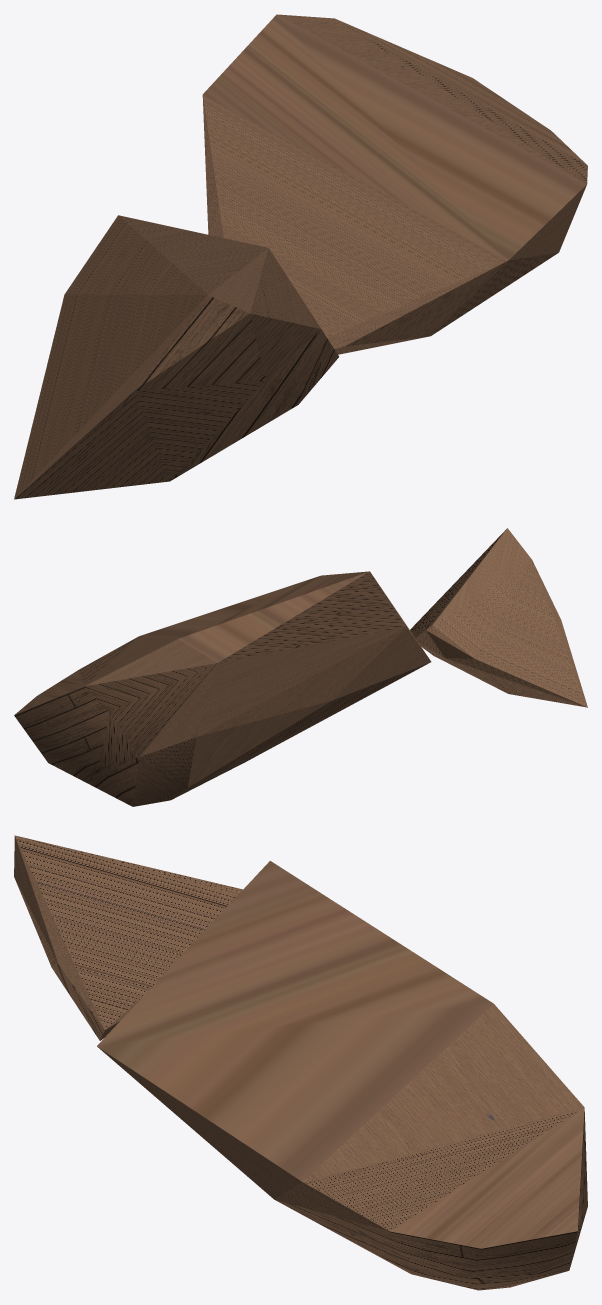
File: Wreck.Cog.01_CONVEX.fbx
3 renders of one model, top to bottom at view 1: azimuth 30°, elevation 25°; view 2: azimuth 150°, elevation 25°; view 3: azimuth 270°, elevation 25°, orthographic. The views are drawn at different scales.
Parts seen in each view (by area): view 1: Shipwreck, Shipwreck.001; view 2: Shipwreck, Shipwreck.001; view 3: Shipwreck, Shipwreck.001.
Part boxes in pixels (bbox=[...]): Shipwreck: bbox=[202, 14, 587, 354]; Shipwreck.001: bbox=[14, 215, 339, 499]; Shipwreck: bbox=[14, 571, 431, 806]; Shipwreck.001: bbox=[410, 528, 587, 707]; Shipwreck: bbox=[97, 861, 587, 1290]; Shipwreck.001: bbox=[14, 835, 242, 1040].
Bounding box in the file's own units: 1259 × 610 × 1007.
